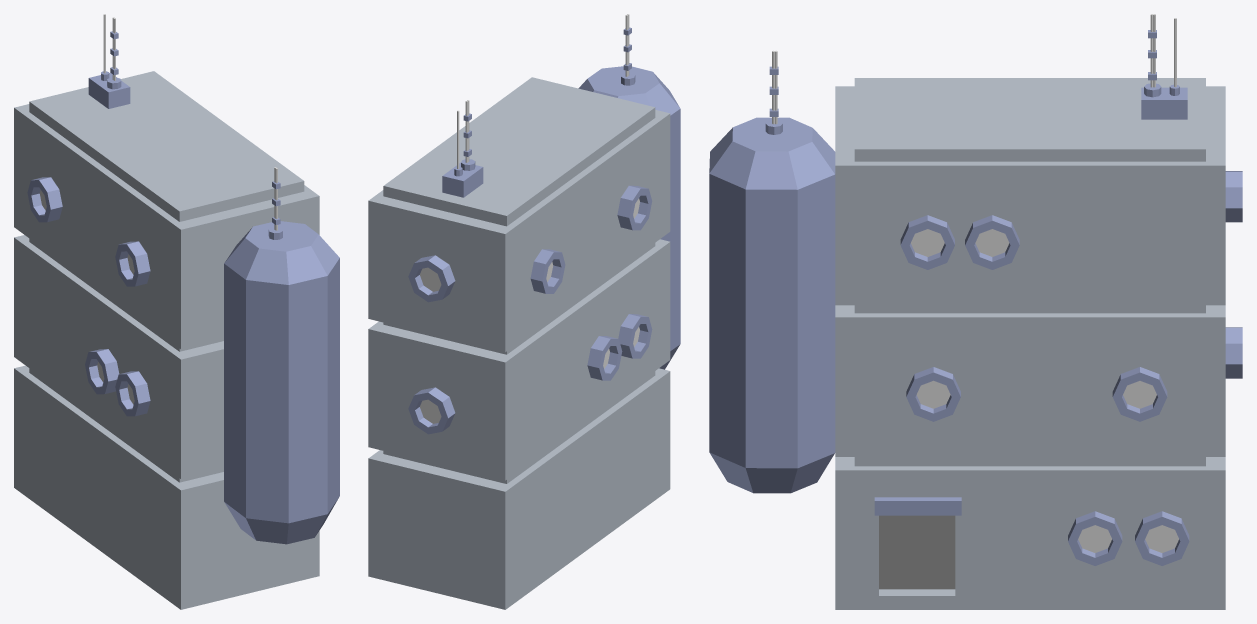
File: Stockage 3.fbx
3 views of the same model, side by side, from view 1: azimuth 30°, elevation 25°; view 2: azimuth 150°, elevation 25°; view 3: azimuth 270°, elevation 25° (orthographic). The views are drawn at different scales.
Visible parts, largest first — view 1: Cube.007, Cylinder.017, Cube, Cube.006, Cylinder.012, Cylinder.016, Cylinder.010, Cylinder.011, Cube.002; view 2: Cube.007, Cube, Cube.006, Cylinder.017, Cylinder.009, Cylinder.015, Cylinder.012, Cylinder.016, Cylinder.011, Cylinder.010, Cube.002; view 3: Cube.007, Cube.006, Cube, Cylinder.017, Cylinder.008, Cylinder.013, Cylinder, Cylinder.001, Cylinder.007, Cylinder.014, Cube.001, Cube.002 (+2 smaller).
Boxes of the visible parts, left/top/right/bottom form: Cube.007: left=14, top=71, right=319, bottom=349; Cylinder.017: left=224, top=221, right=339, bottom=544; Cube: left=14, top=365, right=319, bottom=609; Cube.006: left=14, top=235, right=223, bottom=478; Cylinder.012: left=115, top=241, right=150, bottom=286; Cylinder.016: left=27, top=177, right=62, bottom=222; Cylinder.010: left=115, top=371, right=150, bottom=416; Cylinder.011: left=85, top=349, right=119, bottom=394; Cube.002: left=88, top=72, right=130, bottom=108; Cube.007: left=368, top=77, right=670, bottom=352; Cube: left=368, top=368, right=670, bottom=609; Cube.006: left=368, top=239, right=670, bottom=480; Cylinder.017: left=578, top=66, right=680, bottom=369; Cylinder.009: left=408, top=387, right=455, bottom=434; Cylinder.015: left=408, top=255, right=455, bottom=302; Cylinder.012: left=617, top=185, right=652, bottom=230; Cylinder.016: left=530, top=249, right=565, bottom=293; Cylinder.011: left=587, top=336, right=622, bottom=380; Cylinder.010: left=618, top=314, right=652, bottom=358; Cube.002: left=442, top=162, right=483, bottom=197; Cube.007: left=835, top=78, right=1225, bottom=305; Cube.006: left=835, top=305, right=1225, bottom=456; Cube: left=835, top=457, right=1225, bottom=609; Cylinder.017: left=709, top=117, right=835, bottom=493; Cylinder.008: left=1112, top=367, right=1167, bottom=421; Cylinder.013: left=965, top=215, right=1019, bottom=269; Cylinder: left=1068, top=511, right=1122, bottom=565; Cylinder.001: left=1135, top=511, right=1189, bottom=565; Cylinder.007: left=906, top=367, right=960, bottom=421; Cylinder.014: left=900, top=215, right=954, bottom=269; Cube.001: left=874, top=497, right=961, bottom=515; Cube.002: left=1141, top=87, right=1187, bottom=119.
Bounding box in the file's own units: 232 × 656 × 570.
